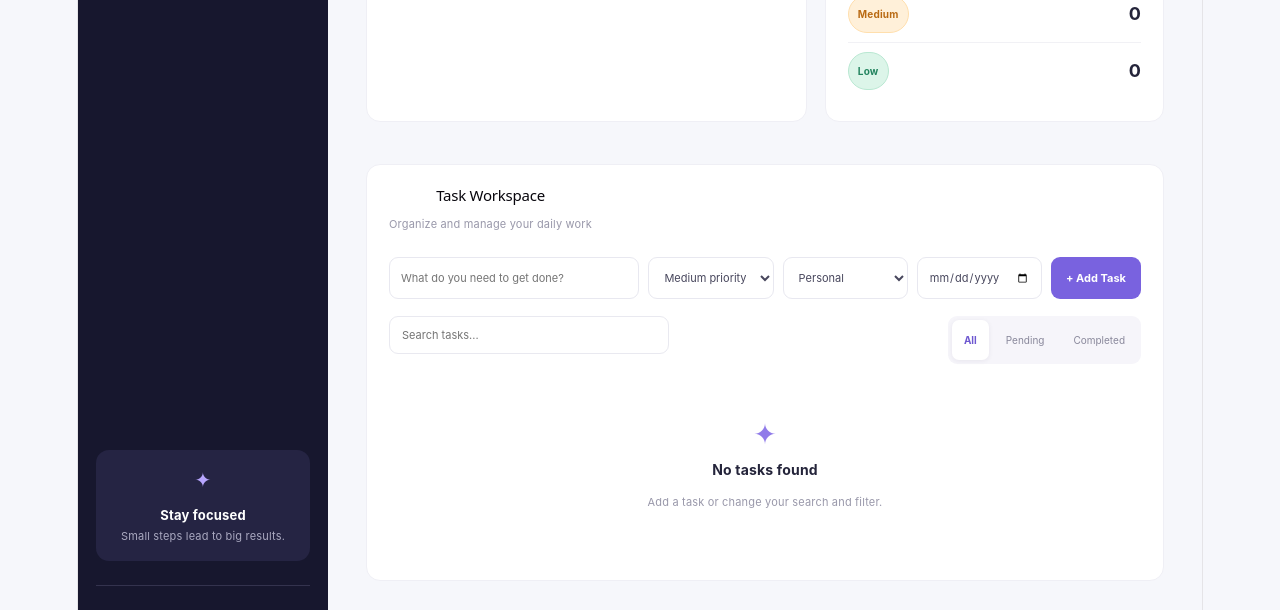
Scenario: TaskOrbit Application › allows a user to add a task
(page scrolled)
// Enter a task name.
Type "Prepare interview notes" into the field with placeholder "What do you need to get done?" at (514, 278), box [389,257,639,299]
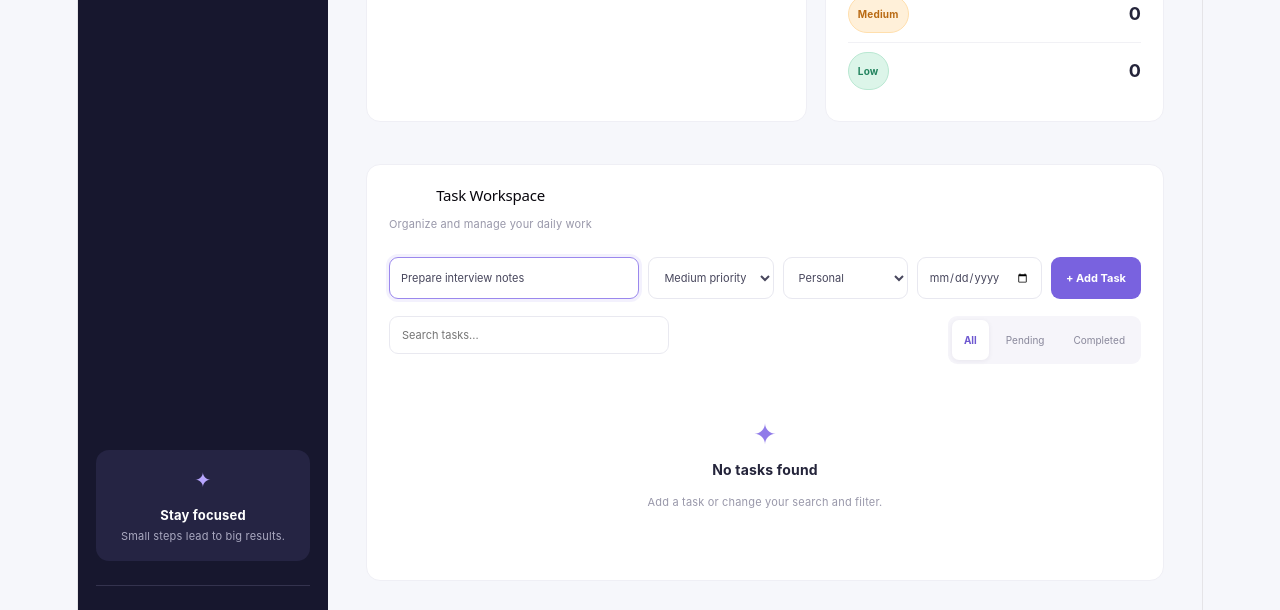
// Click the Add Task button.
Click the button "+ Add Task" at (1096, 278), box [1051,257,1141,299]
(page scrolled)
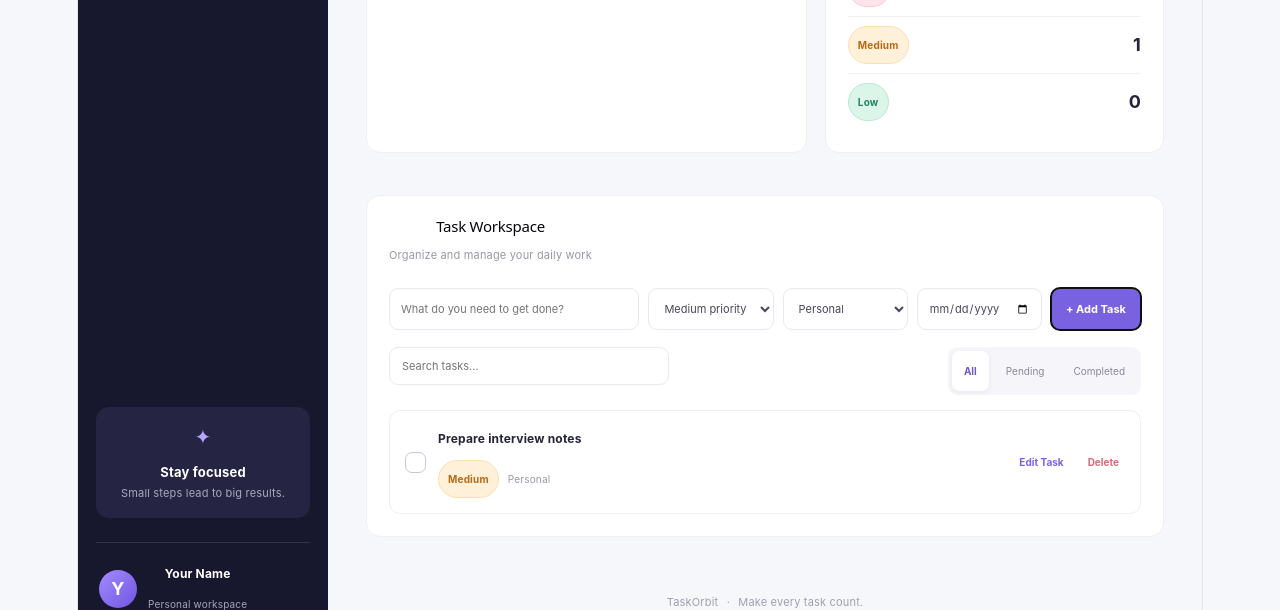
Expected: the heading "Prepare interview notes" is shown, [438,431,582,446]
